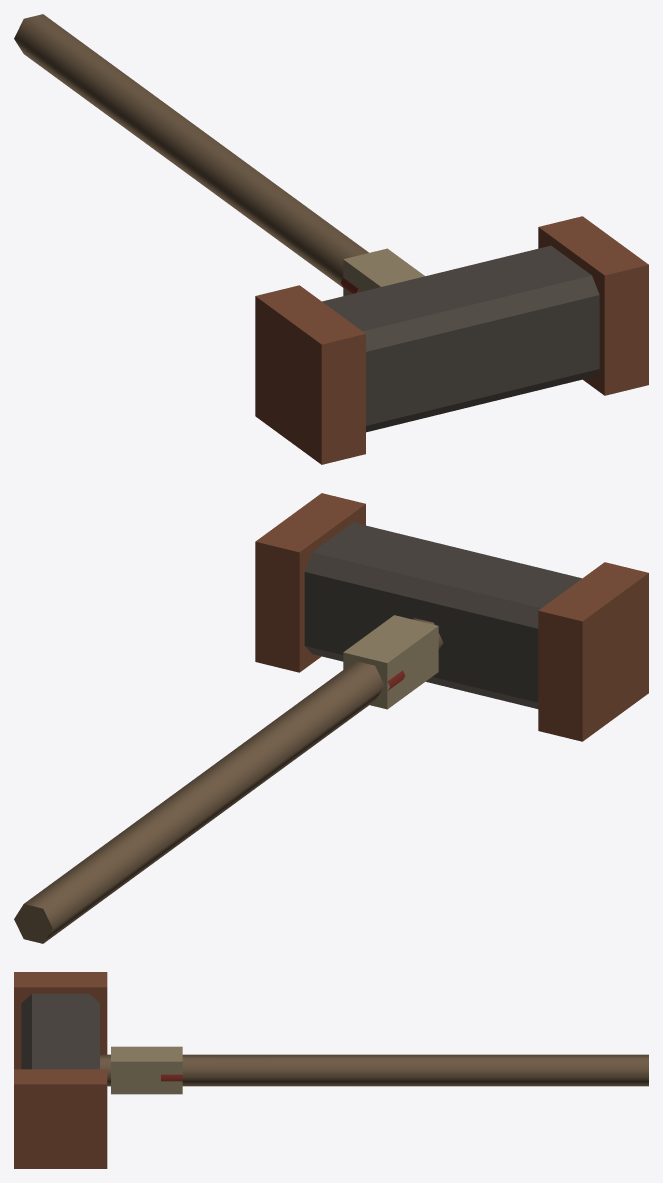
3 renders of one model, top to bottom at view 1: azimuth 30°, elevation 25°; view 2: azimuth 150°, elevation 25°; view 3: azimuth 270°, elevation 25°, orthographic. The views are drawn at different scales.
Visible parts, largest first — view 1: raider_tool_hammer; view 2: raider_tool_hammer; view 3: raider_tool_hammer.
Part boxes in pixels (x1,y1,x2,y2): raider_tool_hammer: (14,14,648,464); raider_tool_hammer: (14,493,648,943); raider_tool_hammer: (14,972,648,1168).
Bounding box in the file's own units: 0.37 × 0.13 × 0.885.
